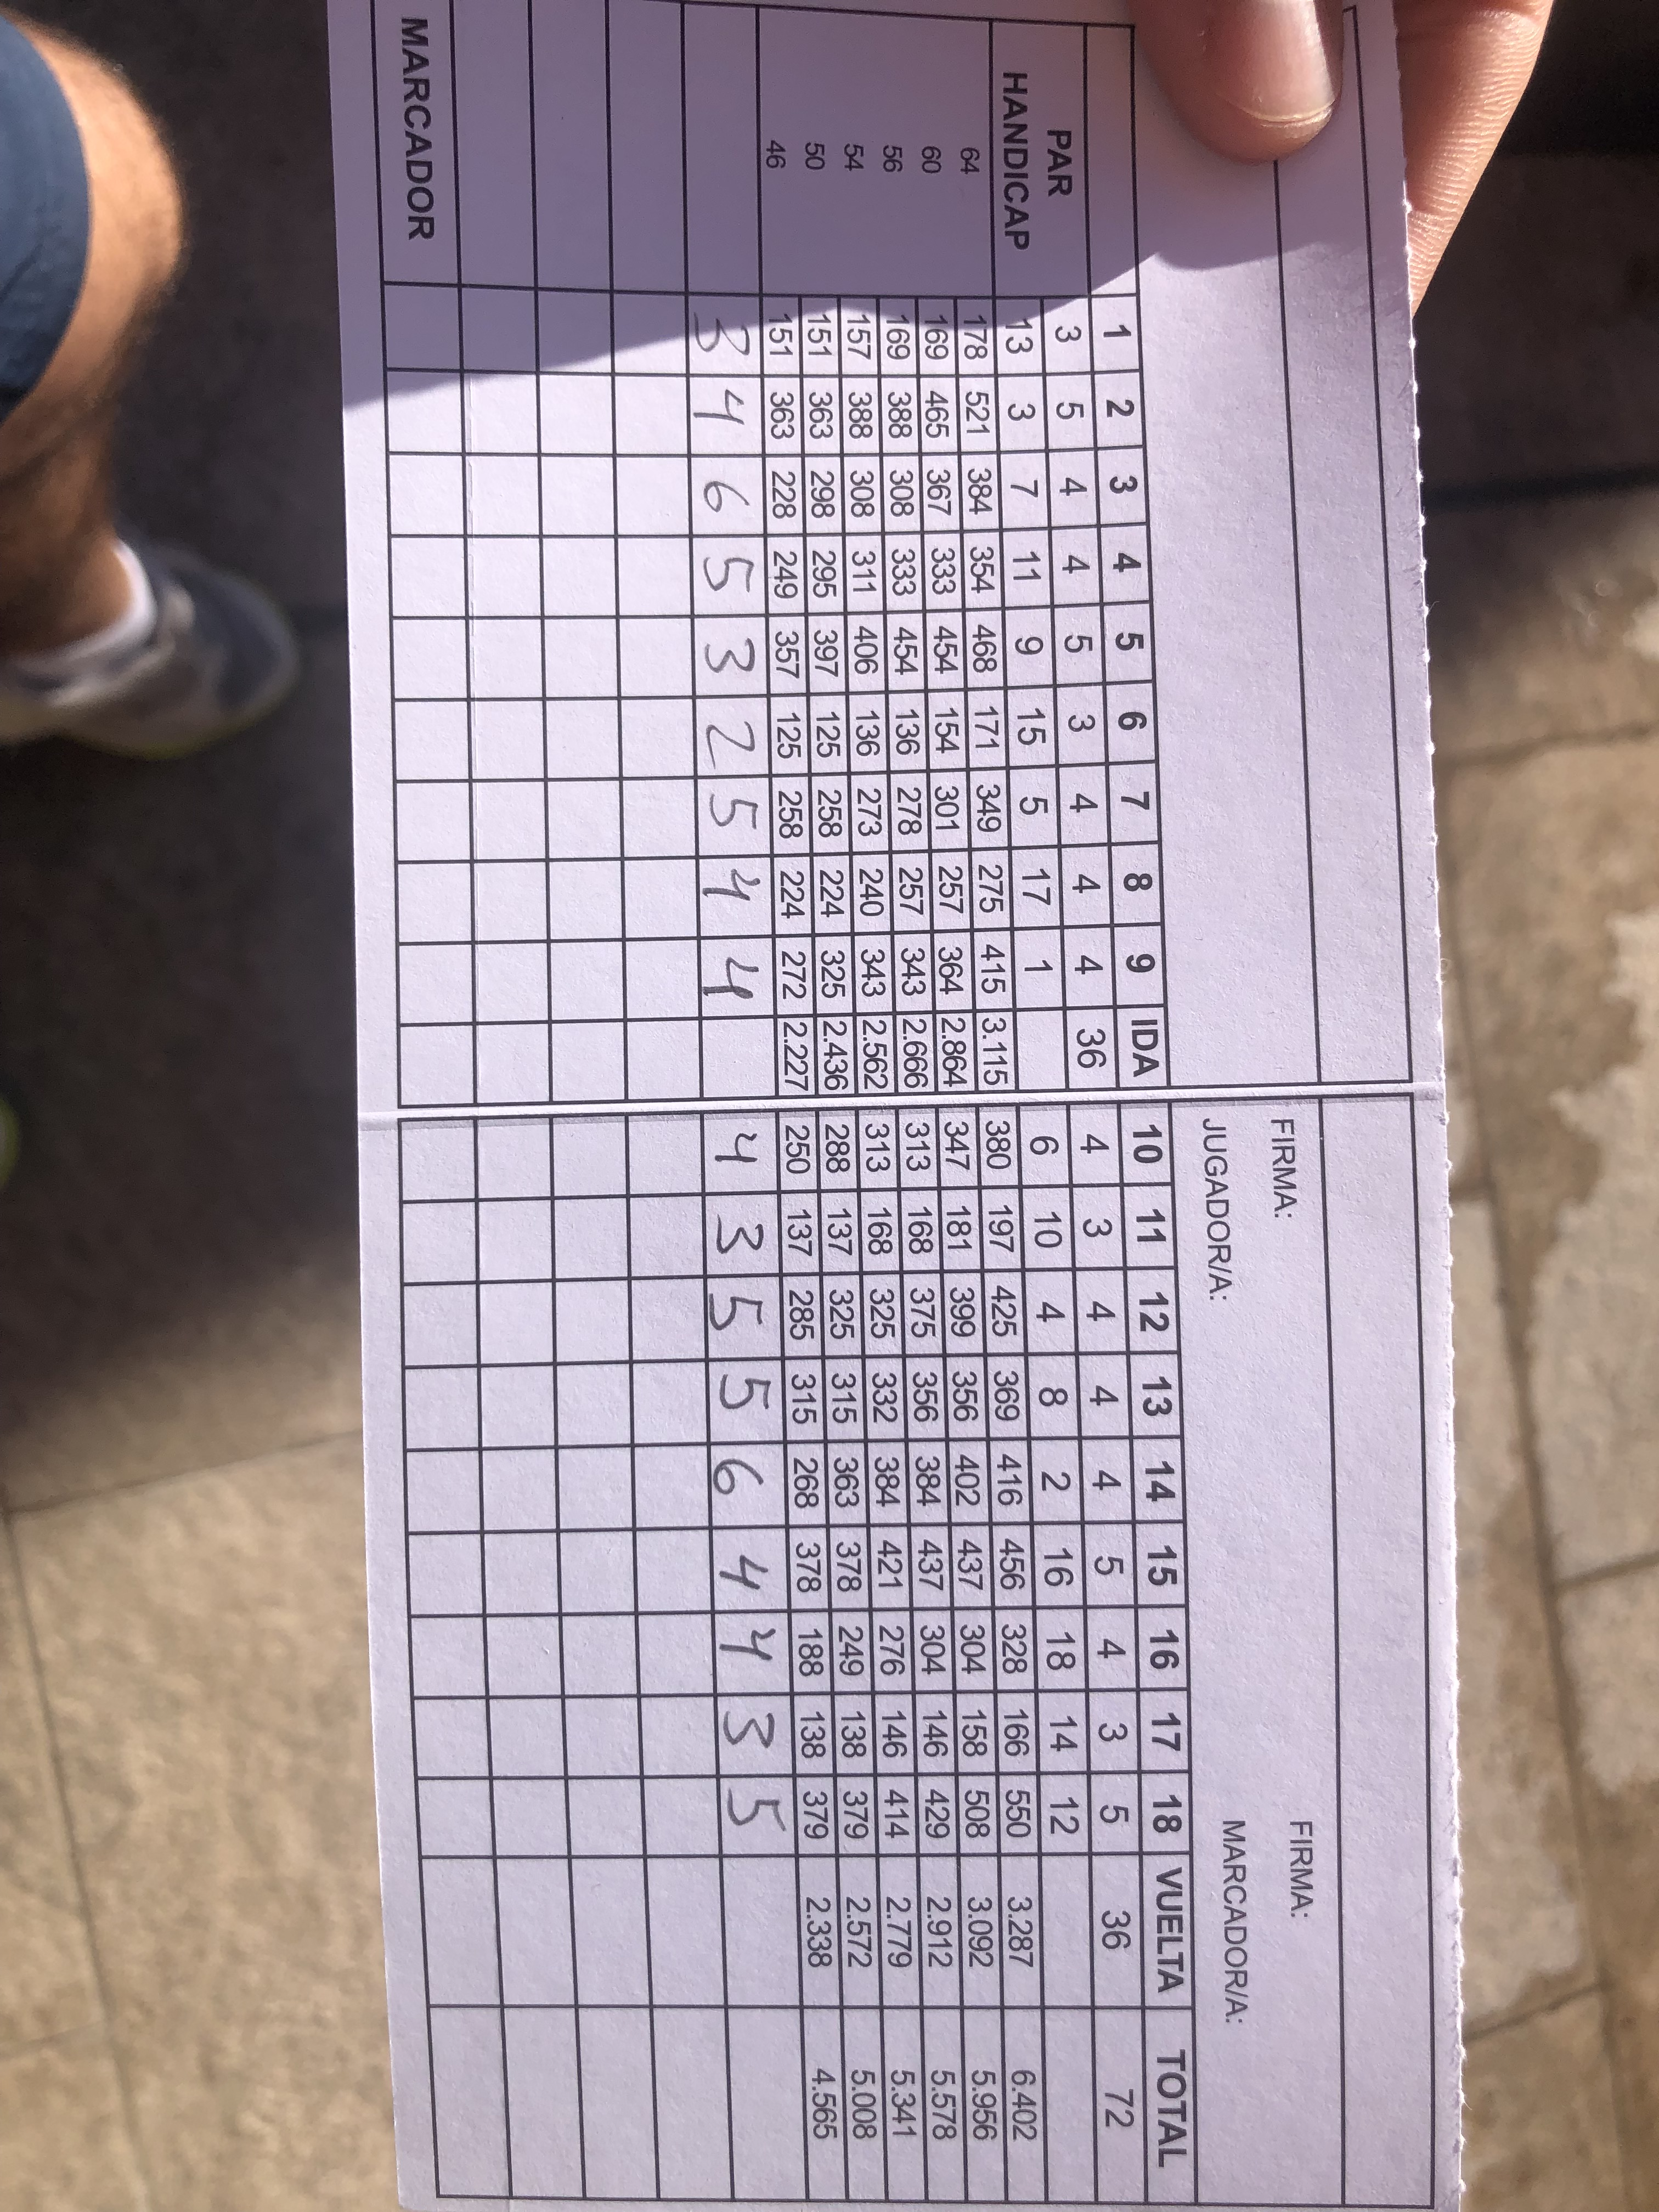par: (1049, 103, 1141, 2137)
score: (690, 305, 793, 1841)
